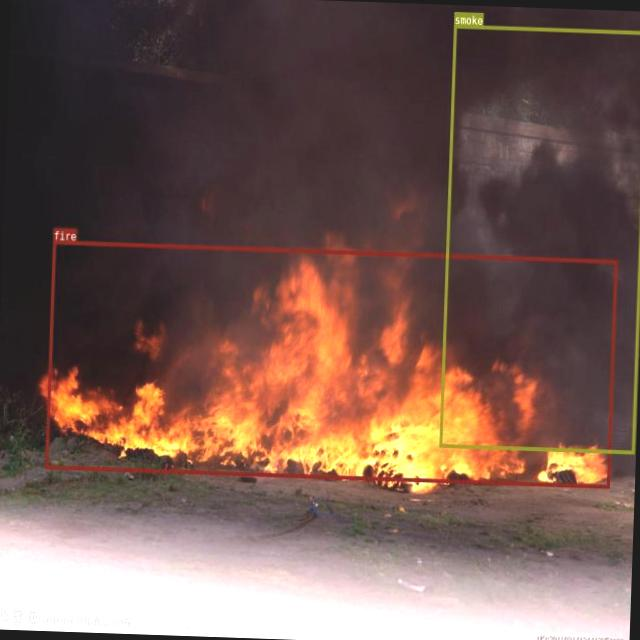fire: (44, 240, 617, 488)
smoke: (438, 22, 640, 453)
